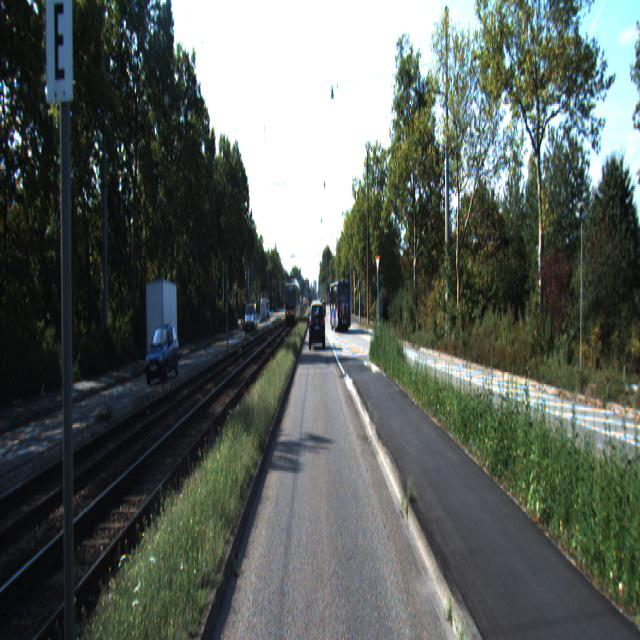Car: (145, 281, 179, 373), (144, 322, 180, 386), (329, 280, 351, 334), (309, 303, 324, 351), (244, 304, 257, 336)
